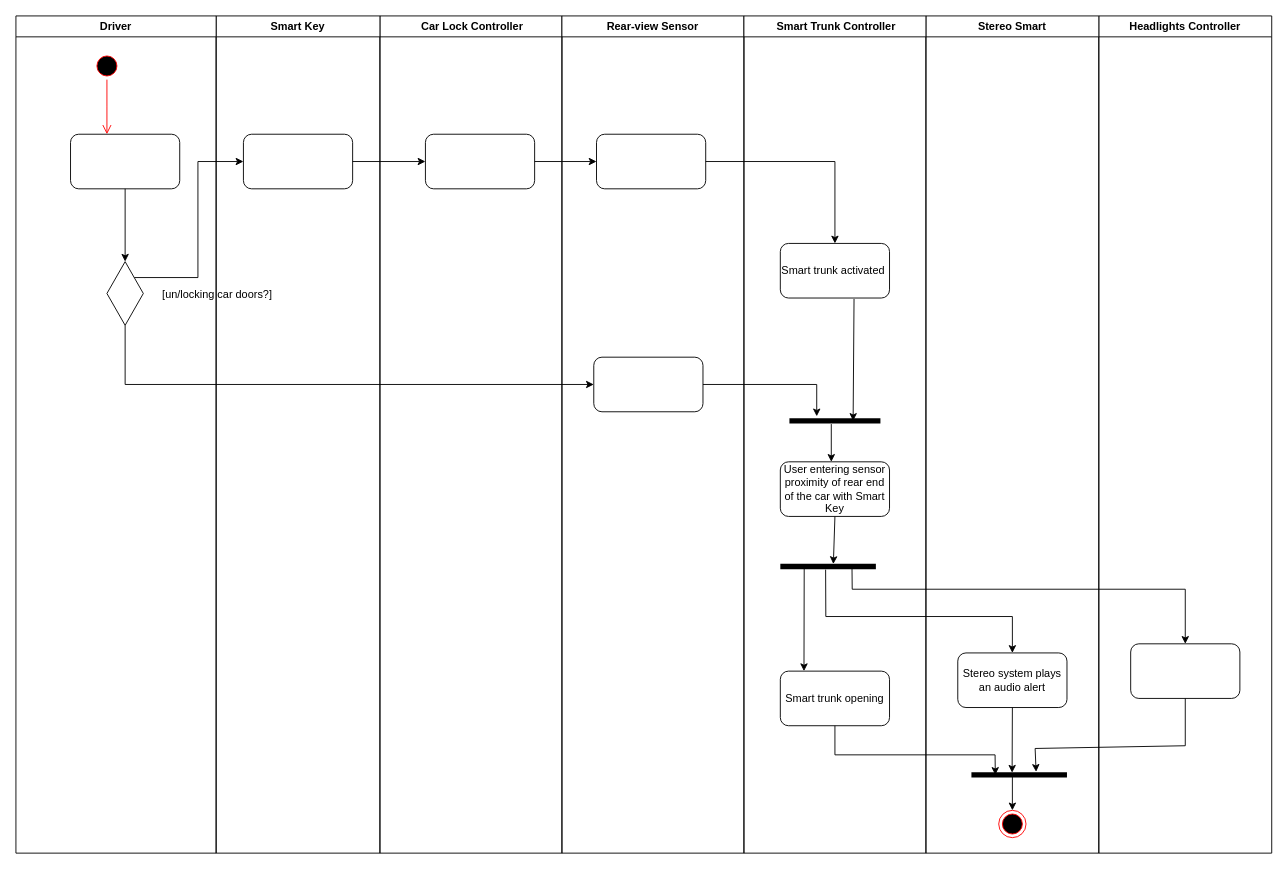
Image size: 1288x869. Some labels were removed from this diagram. The centre of each missing label's shape, as x and y in pixels:
"Driver turned off the engine" belongs at point (125, 161).
"Headlights blink twice to visibly notify" belongs at point (1185, 670).
"Key controlling locks" belongs at point (298, 161).
"Lock controller is detecting the key and locks all doors" belongs at point (480, 161).
"Sensor detecting if the smart key in range" belongs at point (648, 384).
"Waiting for 3 seconds of detection" belongs at point (651, 161).
